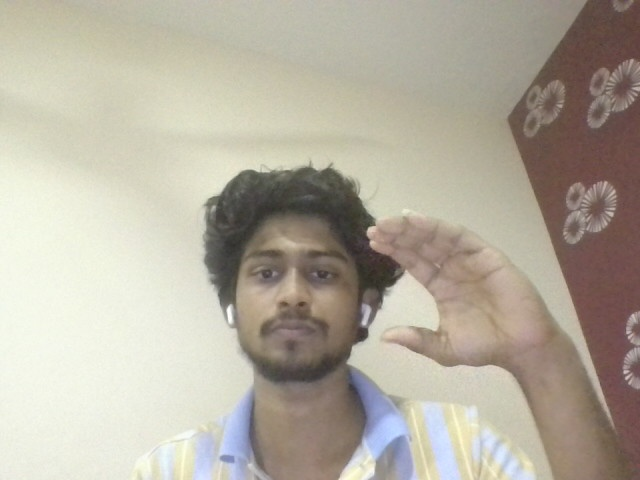No: (364, 207, 597, 369)
